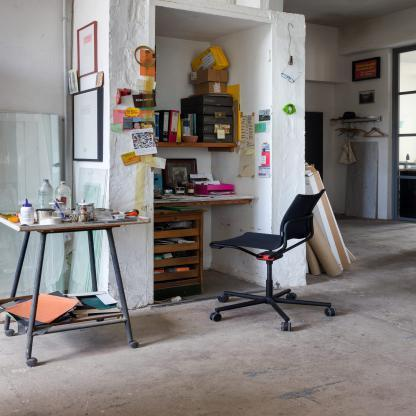chair: (203, 189, 345, 340)
door: (305, 112, 326, 182)
table: (0, 194, 151, 370), (156, 189, 255, 314)
